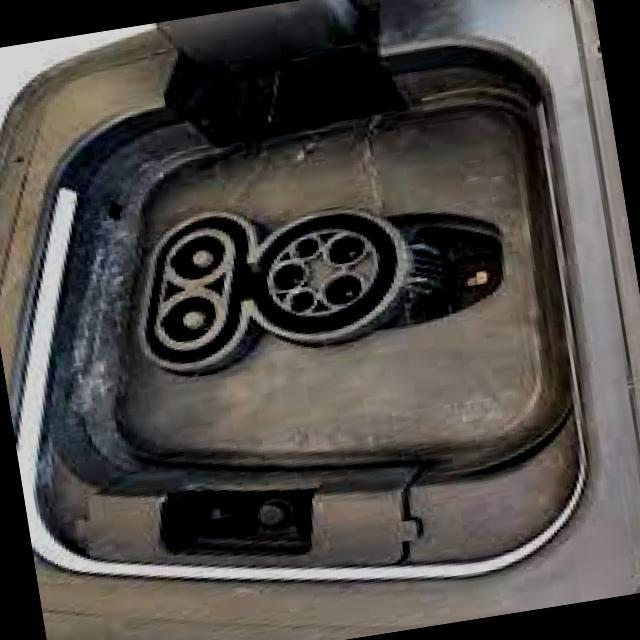CCS1: (117, 183, 433, 401)
